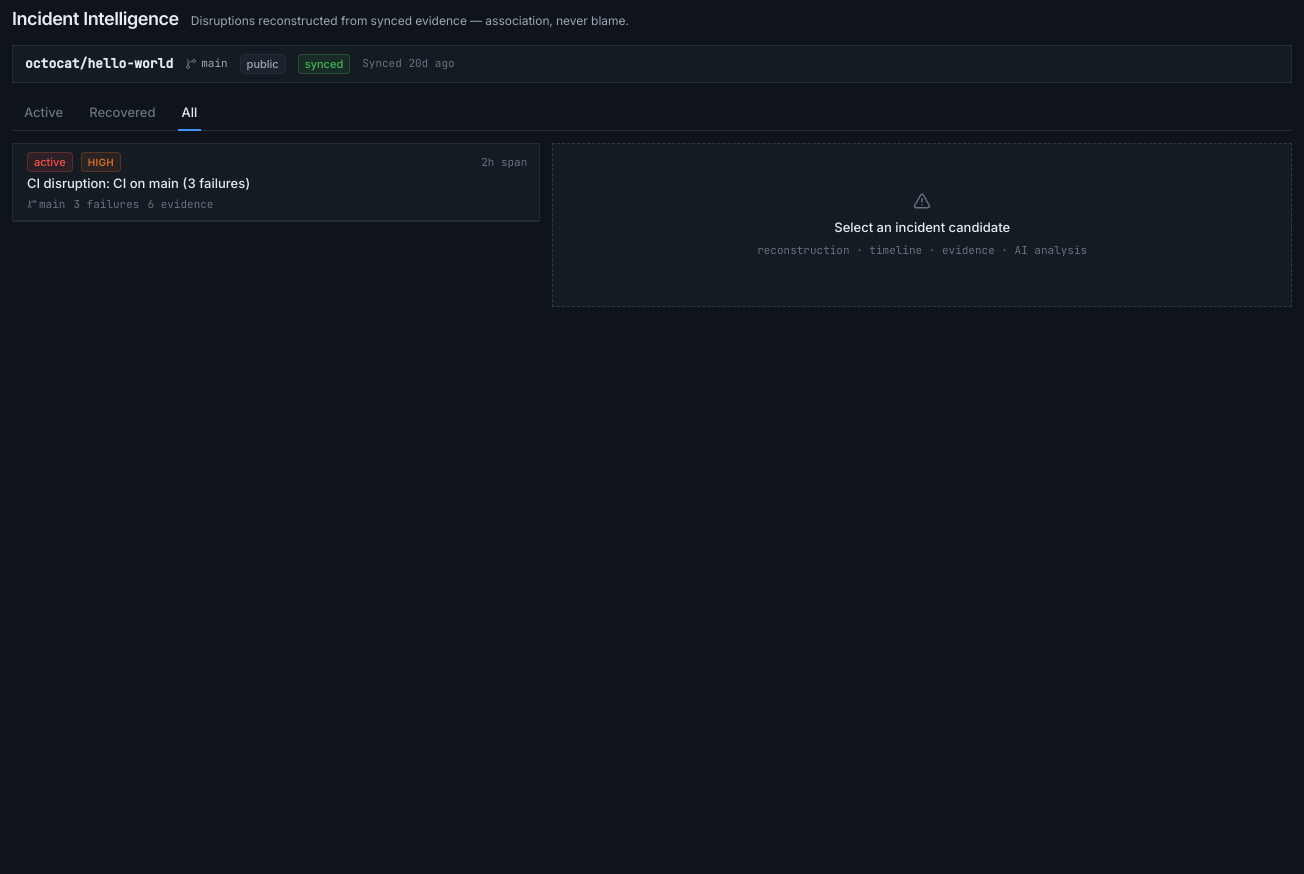
Test case: IncidentsPage investigation › opens the reconstruction with timeline, evidence, and unknowns
Click the text "CI disruption: CI on main (3 failures)": (139, 183) top-left (27, 175), bottom-right (250, 191)
(page scrolled)
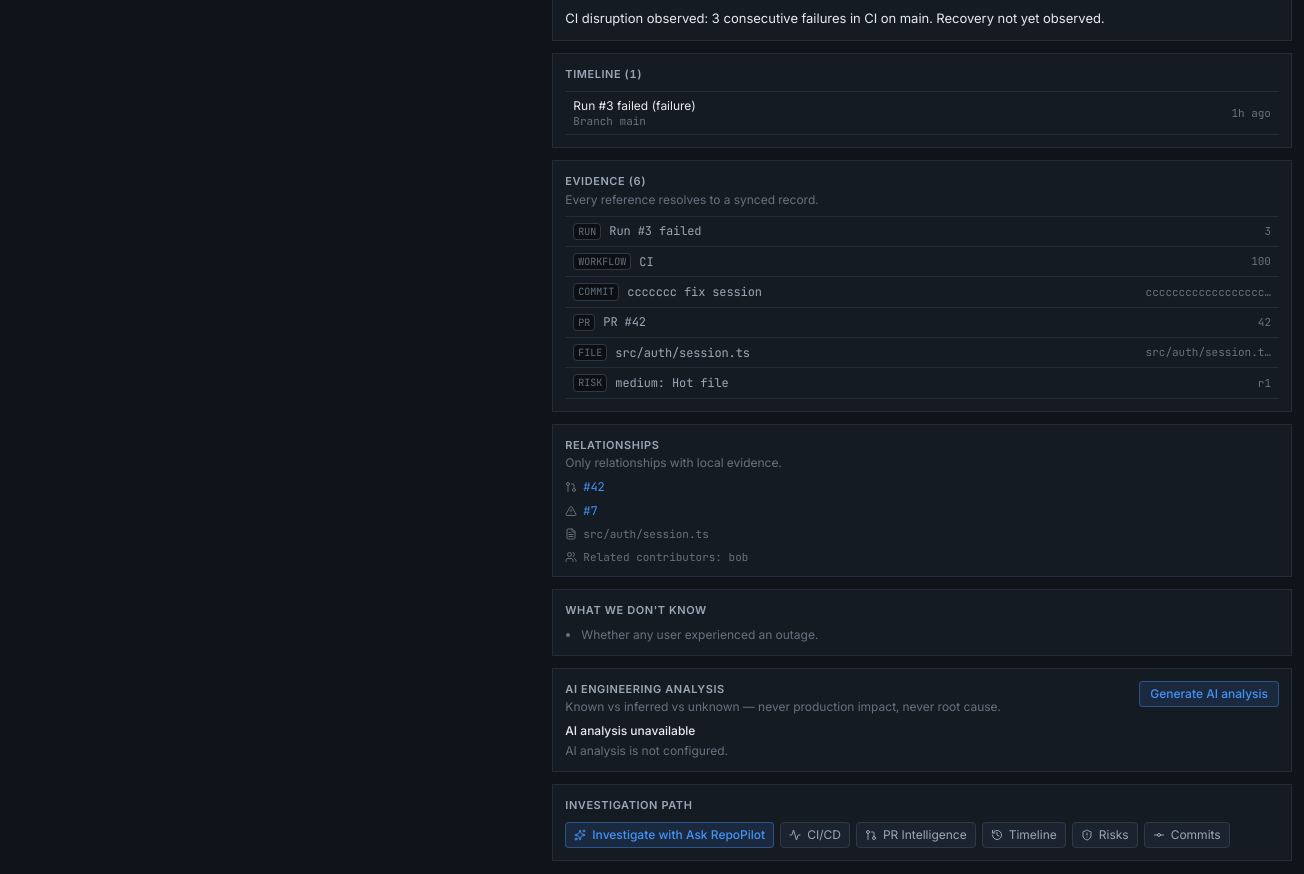
Check: the text "Run #3 failed (failure)" is shown, box top-left (573, 98), bottom-right (696, 112)
Check: the text "src/auth/session.ts" next to "src/auth/session.t…" is shown, box top-left (615, 345), bottom-right (750, 361)
Check: the list item "Whether any user experienced an outage." is shown, box top-left (581, 627), bottom-right (818, 642)
